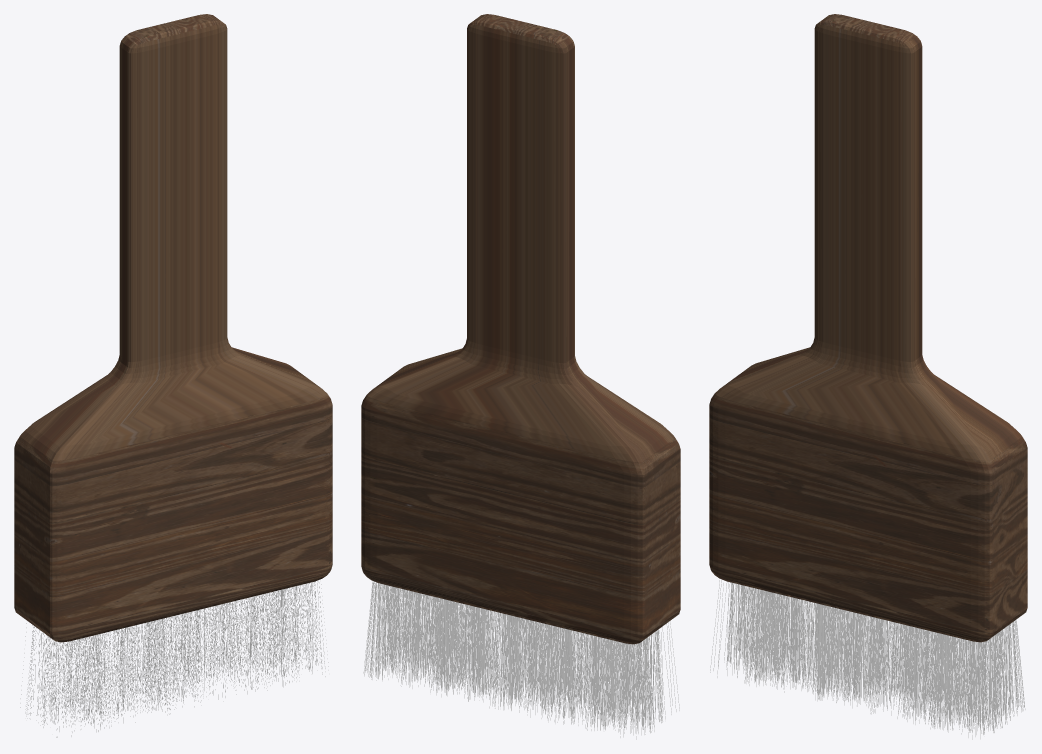
3 renders of one model, left to right at view 1: azimuth 30°, elevation 25°; view 2: azimuth 150°, elevation 25°; view 3: azimuth 330°, elevation 25°, orthographic.
Visible parts, largest first — view 1: 刷子, 刷毛; view 2: 刷子, 刷毛; view 3: 刷子, 刷毛.
Part boxes in pixels (x1,y1,x2,y2): 刷子: (14,14,332,642); 刷毛: (20,581,328,737); 刷子: (361,14,680,644); 刷毛: (363,581,679,739); 刷子: (709,14,1027,642); 刷毛: (710,580,1025,739).
Bounding box in the file's own units: 16 × 35.99 × 4.86.
Materials: 2 (1 with a texture image).
